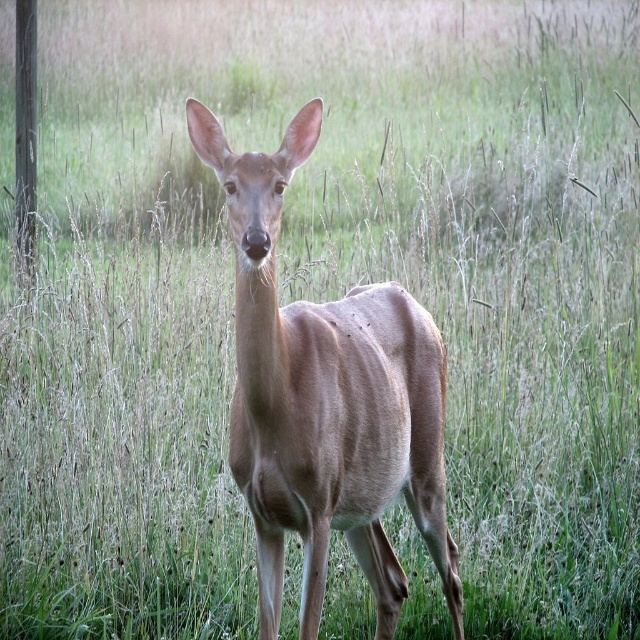Deer: (183, 96, 465, 639)
